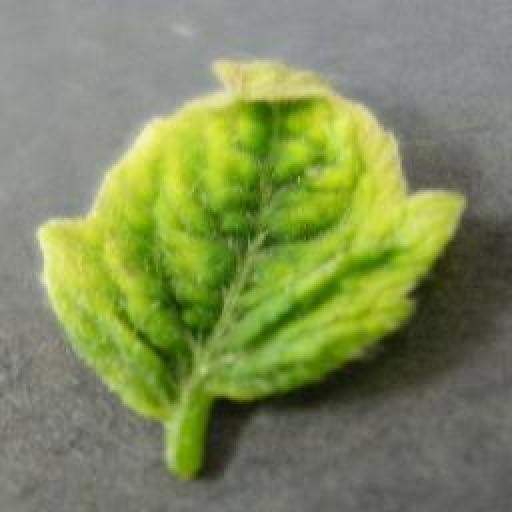disease_tomato: (36, 58, 468, 422)
